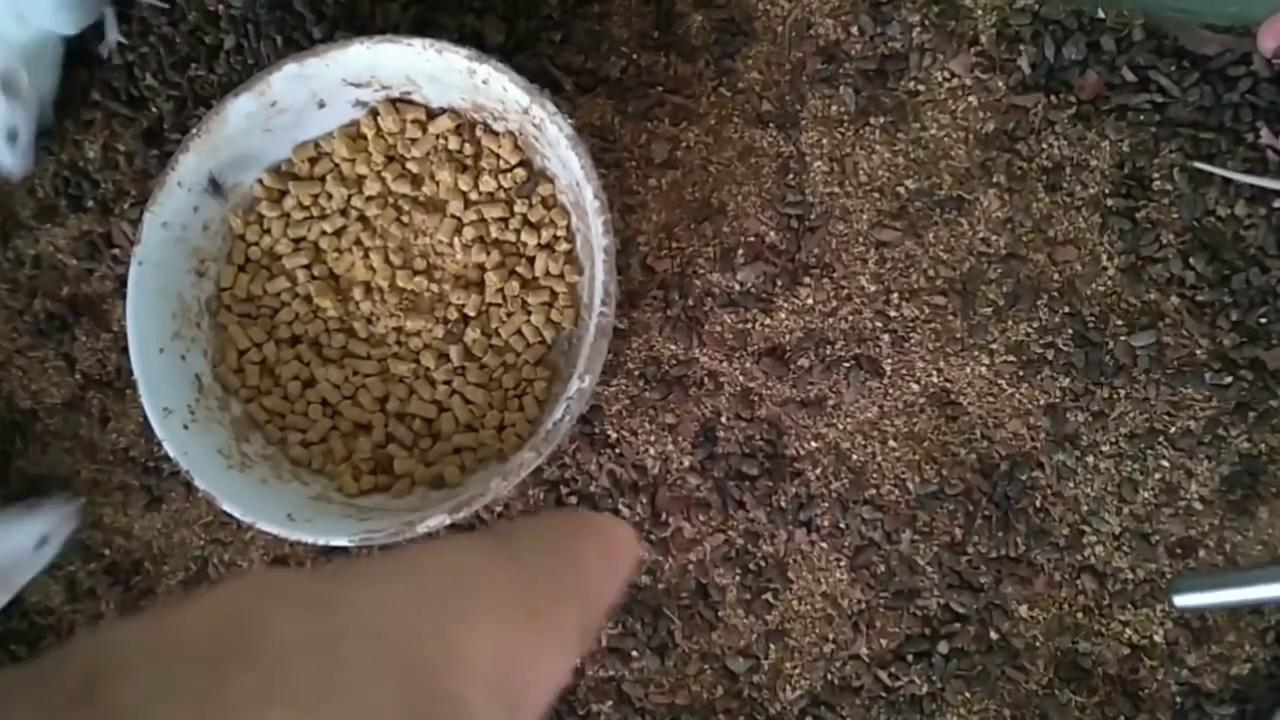rat: (0, 0, 121, 170)
